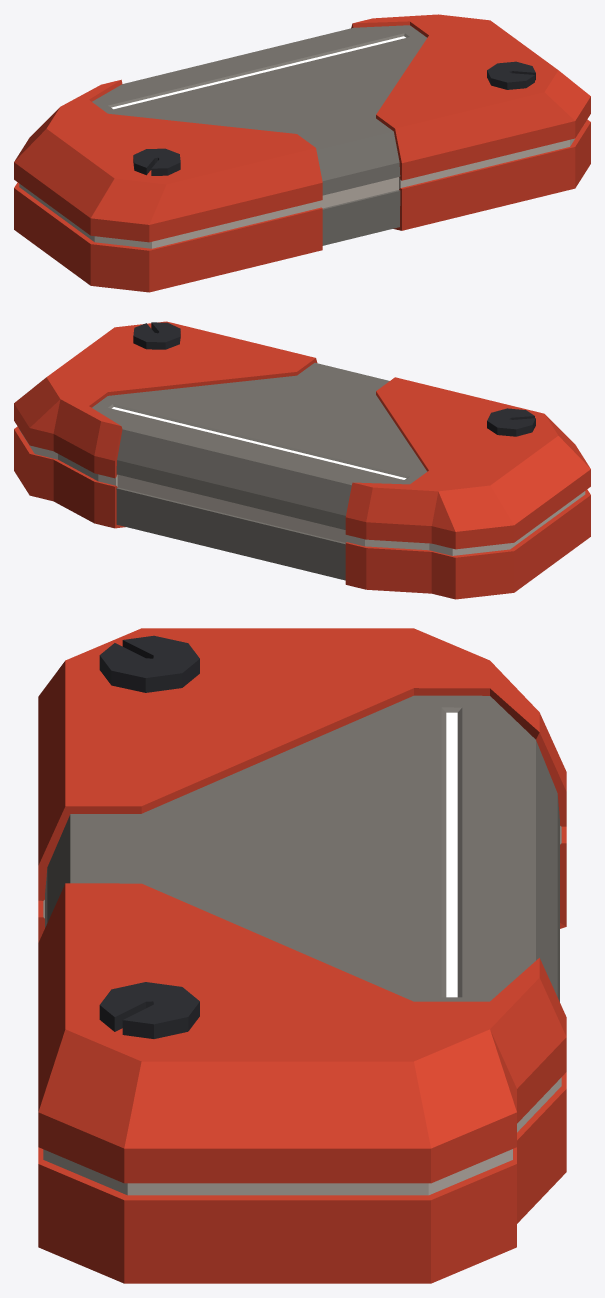
File: SM_First-aid_Kit.glb
3 renders of one model, top to bottom at view 1: azimuth 30°, elevation 25°; view 2: azimuth 150°, elevation 25°; view 3: azimuth 270°, elevation 25°, orthographic. The views are drawn at different scales.
Visible parts, largest first — view 1: SM_First-aid_Kit; view 2: SM_First-aid_Kit; view 3: SM_First-aid_Kit.
Boxes of the visible parts, <box> form: SM_First-aid_Kit: <box>14,14,590,292</box>; SM_First-aid_Kit: <box>14,321,590,599</box>; SM_First-aid_Kit: <box>38,628,566,1283</box>.
Bounding box in the file's own units: 0.3462 × 0.0731 × 0.1583.
2 materials, 1 textured.
